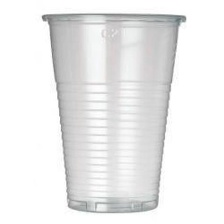glass: (33, 4, 192, 215)
